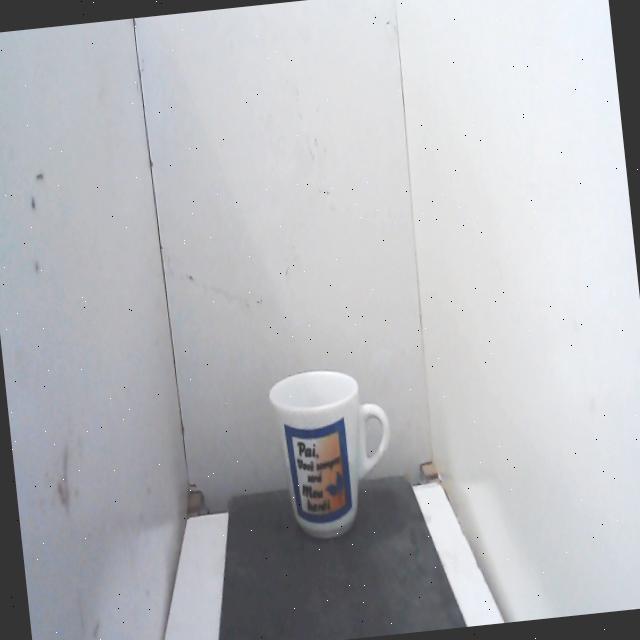vidro: (259, 353, 405, 554)
